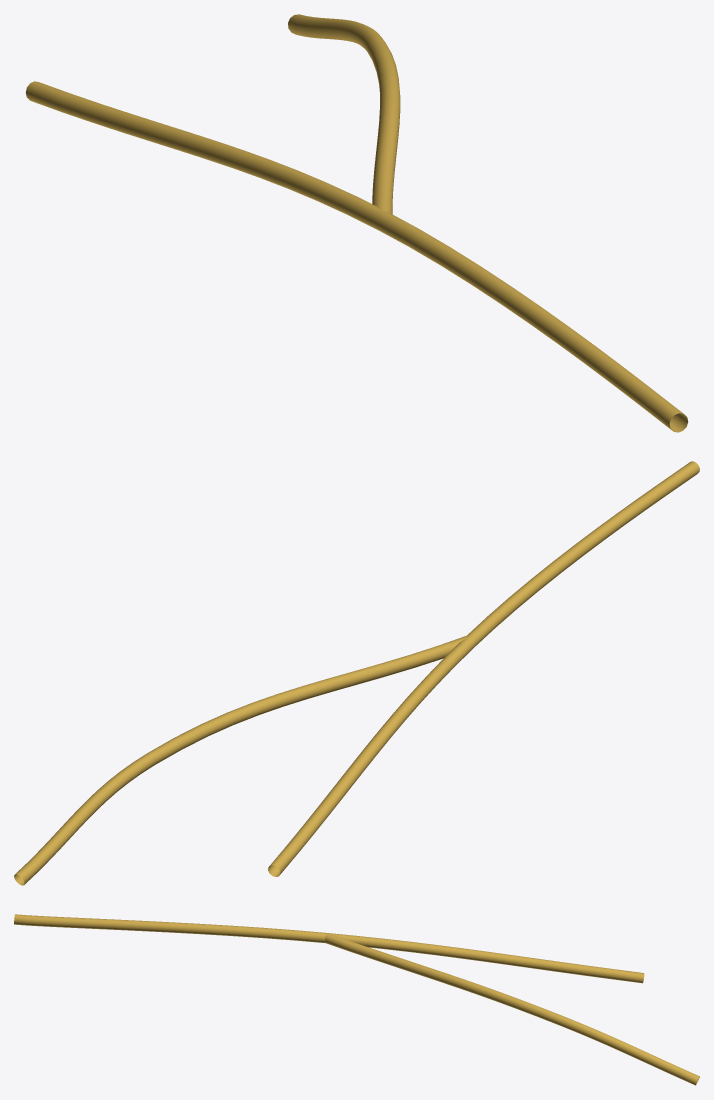
3 renders of one model, top to bottom at view 1: azimuth 30°, elevation 25°; view 2: azimuth 150°, elevation 25°; view 3: azimuth 270°, elevation 25°, orthographic. The views are drawn at different scales.
Visible parts, largest first — view 1: 左侧尺神经指掌侧总神经; view 2: 左侧尺神经指掌侧总神经; view 3: 左侧尺神经指掌侧总神经.
Part boxes in pixels (bbox=[...]): 左侧尺神经指掌侧总神经: bbox=[25, 14, 688, 432]; 左侧尺神经指掌侧总神经: bbox=[14, 461, 699, 885]; 左侧尺神经指掌侧总神经: bbox=[14, 914, 699, 1085].
Size of the model in its own units: 0.0276 by 0.0152 by 0.0977.
